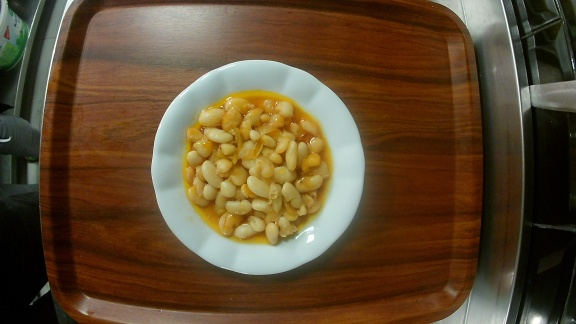kurufasulye: (150, 60, 366, 276)
